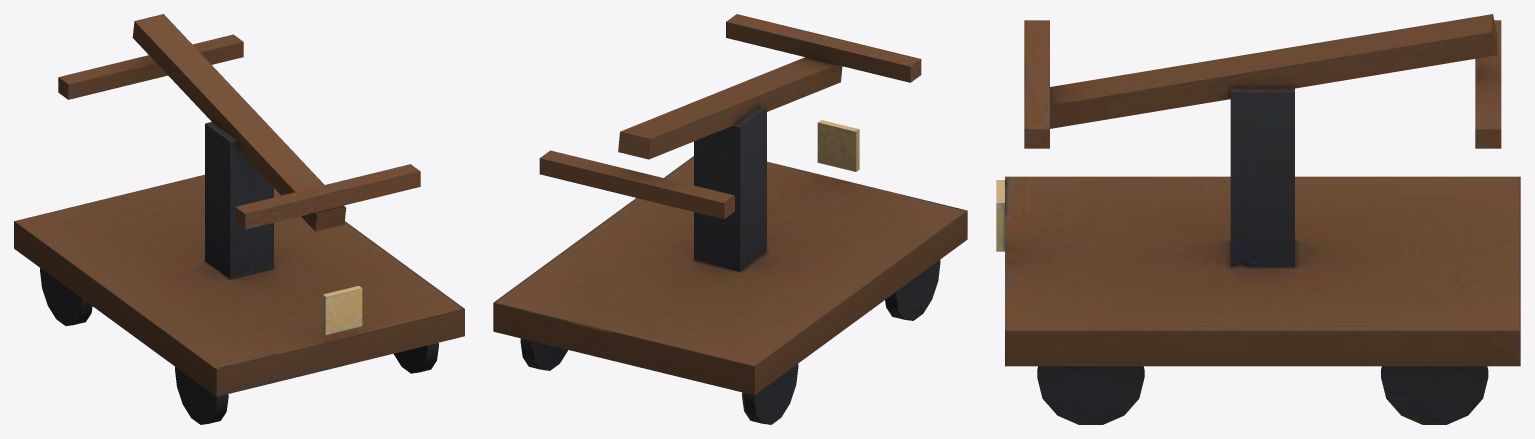
Rendered from vagoneta.glb.
3 renders of one model, left to right at view 1: azimuth 30°, elevation 25°; view 2: azimuth 150°, elevation 25°; view 3: azimuth 270°, elevation 25°, orthographic. The views are drawn at different scales.
Parts seen in each view (by area): view 1: vagoneta; view 2: vagoneta; view 3: vagoneta.
Part boxes in pixels (x1,y1,x2,y2): vagoneta: [14, 14, 464, 424]; vagoneta: [493, 14, 967, 424]; vagoneta: [996, 14, 1520, 424].
Size of the model in its own units: 1.7 by 1.71 by 2.44.
1 material, 1 textured.
